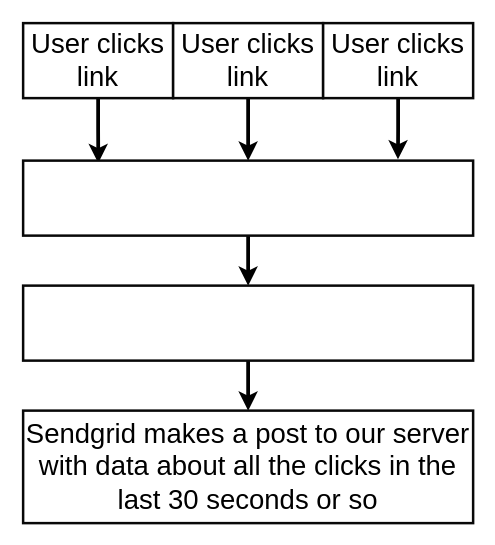
Some shapes in this 495 by 545 pixel diagram are drawn without their labels. The shapes that lost their labels are listed below. From the top down, each one's box as (x1, y1, x2, y2) in pixels, then its label:
(21, 159, 474, 236): Sendgrid records click
(21, 284, 474, 361): Sendgrid waits for a bit
